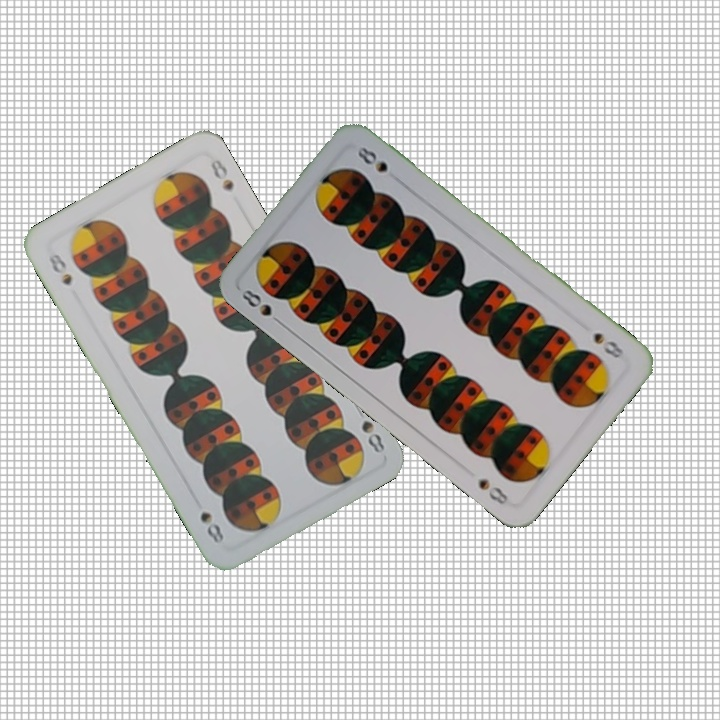S8: (237, 285, 286, 329), (589, 328, 627, 362), (44, 249, 75, 289), (357, 416, 388, 456)
